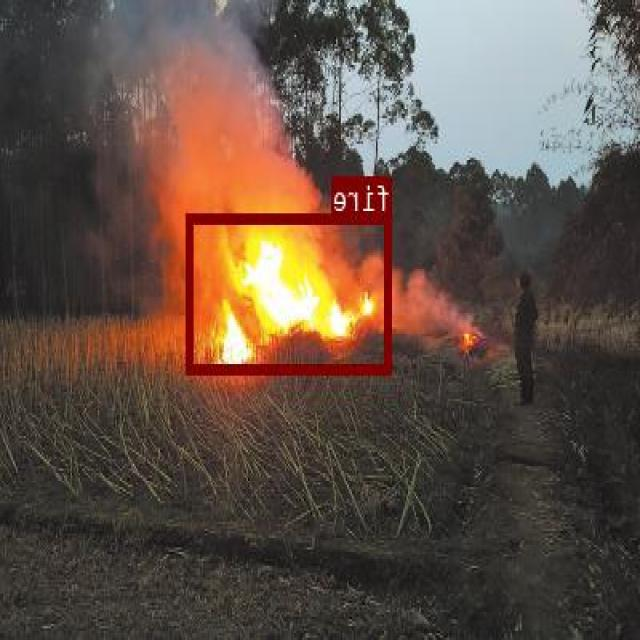fire: (188, 212, 392, 372)
